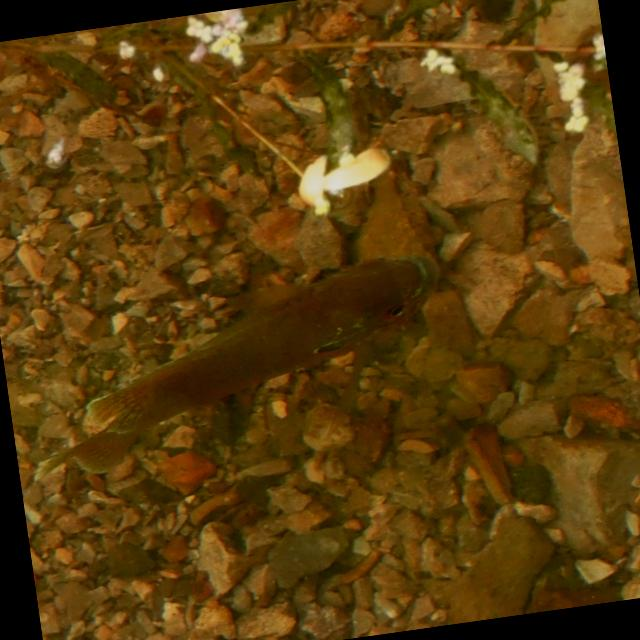Gunes Levregi: (6, 247, 462, 487)
